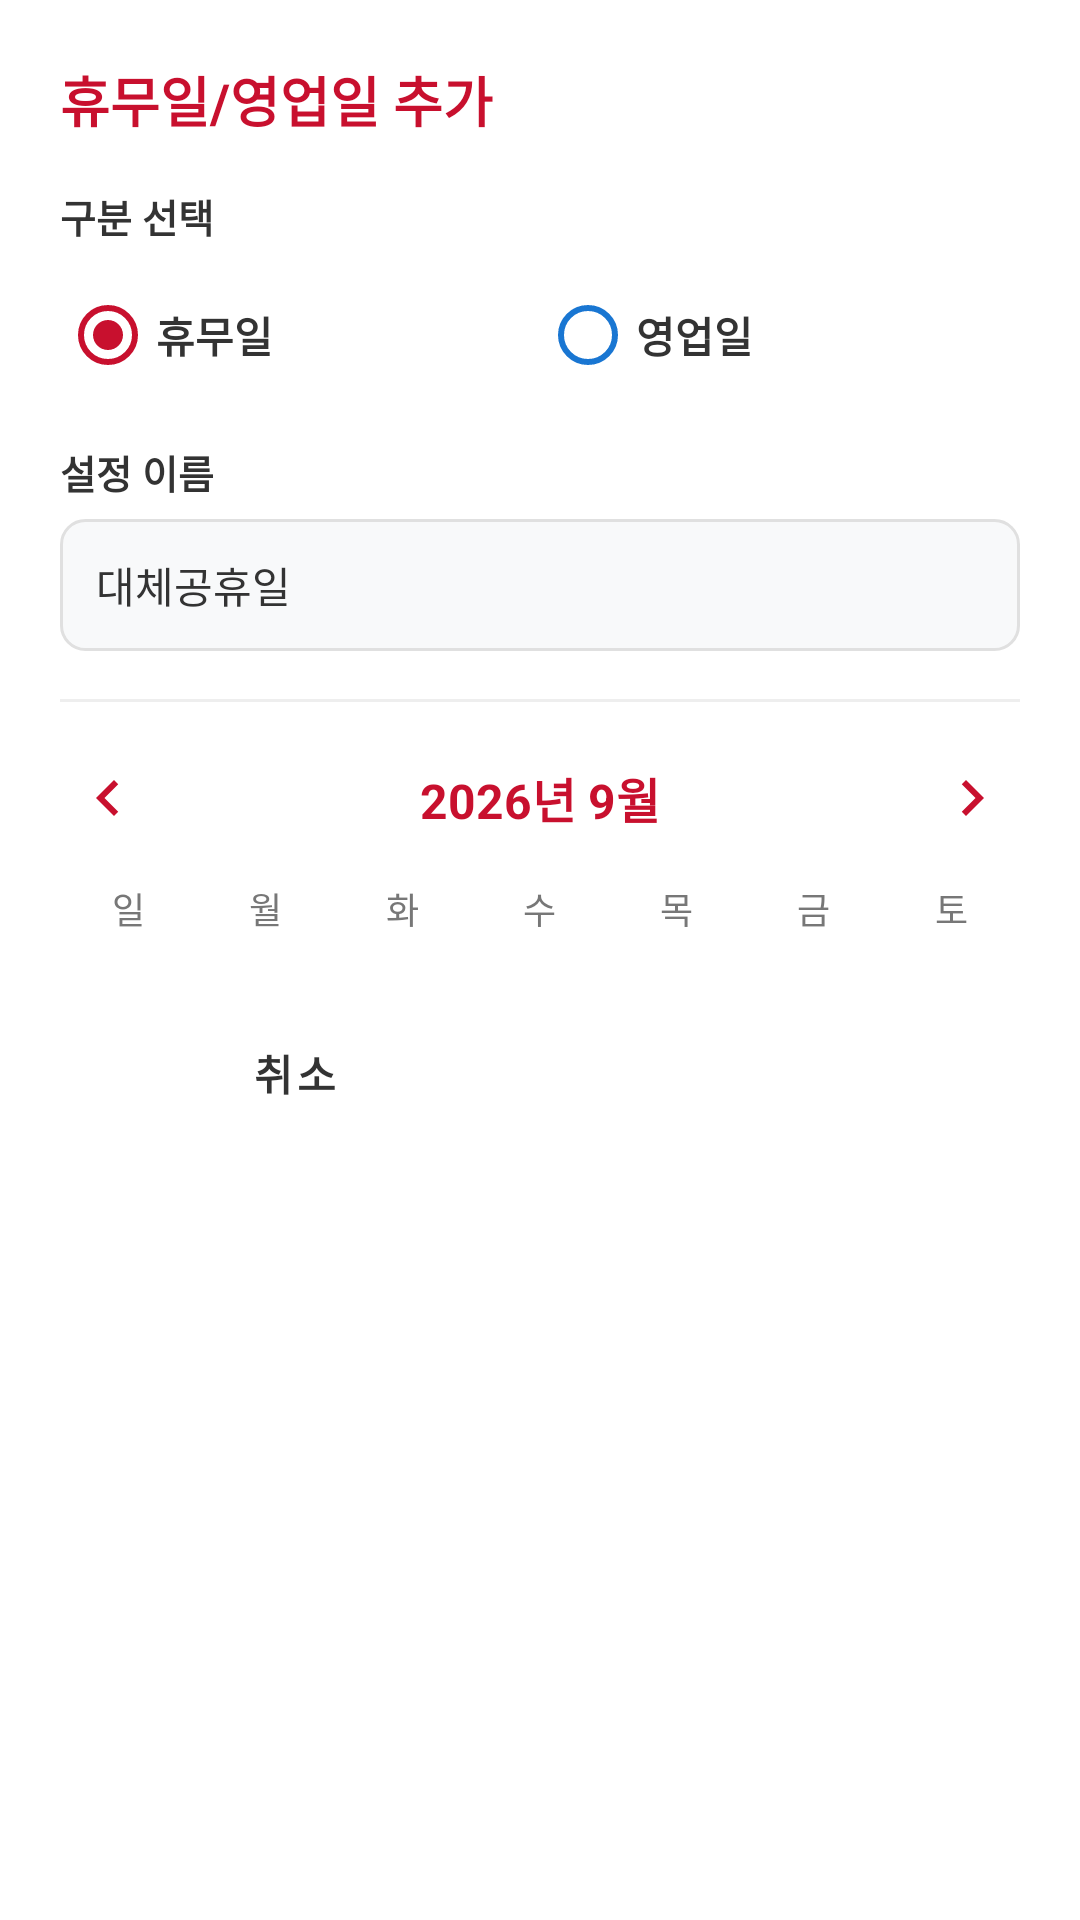

Point at icon controls on the screen. Image size 1080px x 1920px, points as [x,y].
다음달: [973,798]
이전달: [107,798]
